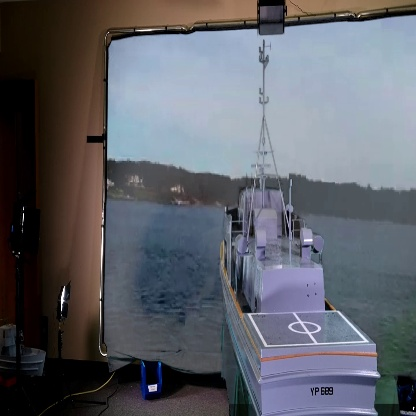YP689: (218, 39, 383, 416)
